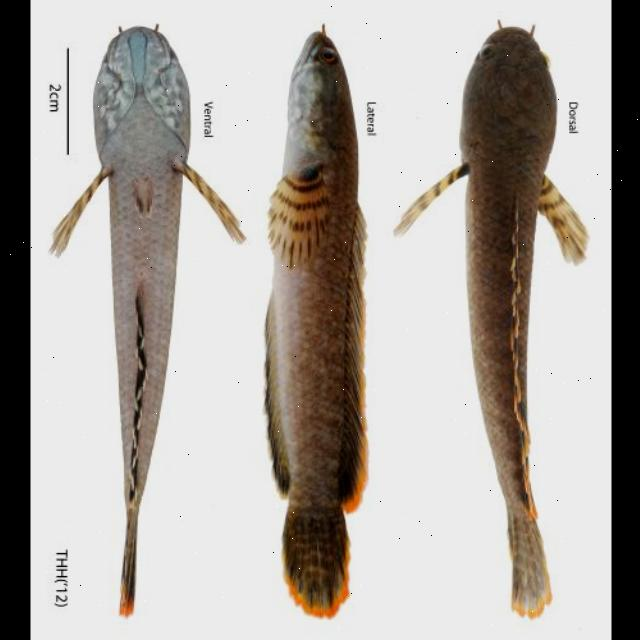Mulut: (280, 18, 338, 94), (96, 16, 180, 66), (471, 18, 555, 56)
Sirip Anal: (104, 280, 154, 520), (246, 288, 298, 512)
Sirip Dada: (384, 147, 480, 249), (253, 156, 329, 272), (525, 168, 603, 276), (172, 133, 240, 254), (40, 157, 116, 265)
Sirip Ekor: (262, 487, 378, 635), (474, 501, 566, 632), (92, 506, 160, 630)
Sirip Punggung: (326, 201, 374, 514), (493, 186, 533, 528)
